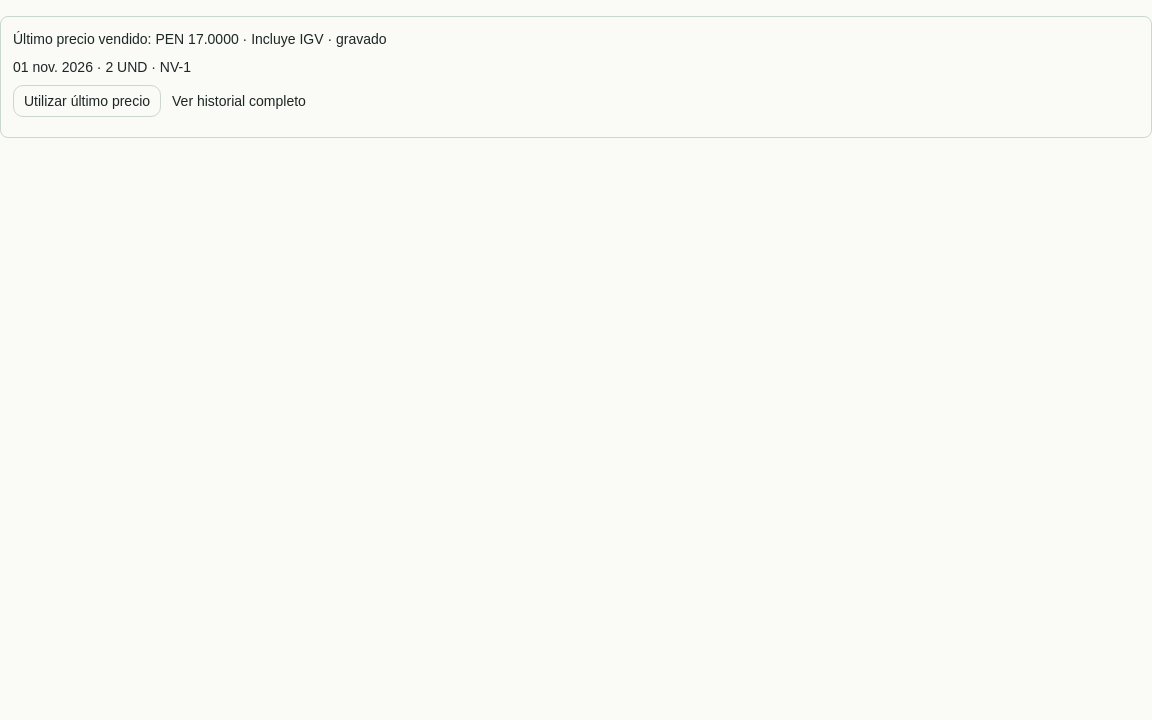
Test: historial de precios de venta › solo entrega el precio tras una acción explícita; abrir el historial no cambia precios
The image size is (1152, 720).
Later steps or results of the test are not shown.
Expected: the text "Último precio vendido: PEN 17.0000 · Incluye IGV · gravado" is shown, 13,31 -> 387,47
What coordinates should you click on to do the following:
click the button "Ver historial completo"
I would click on:
 (239, 101)
Its box is 161,85 -> 317,117.
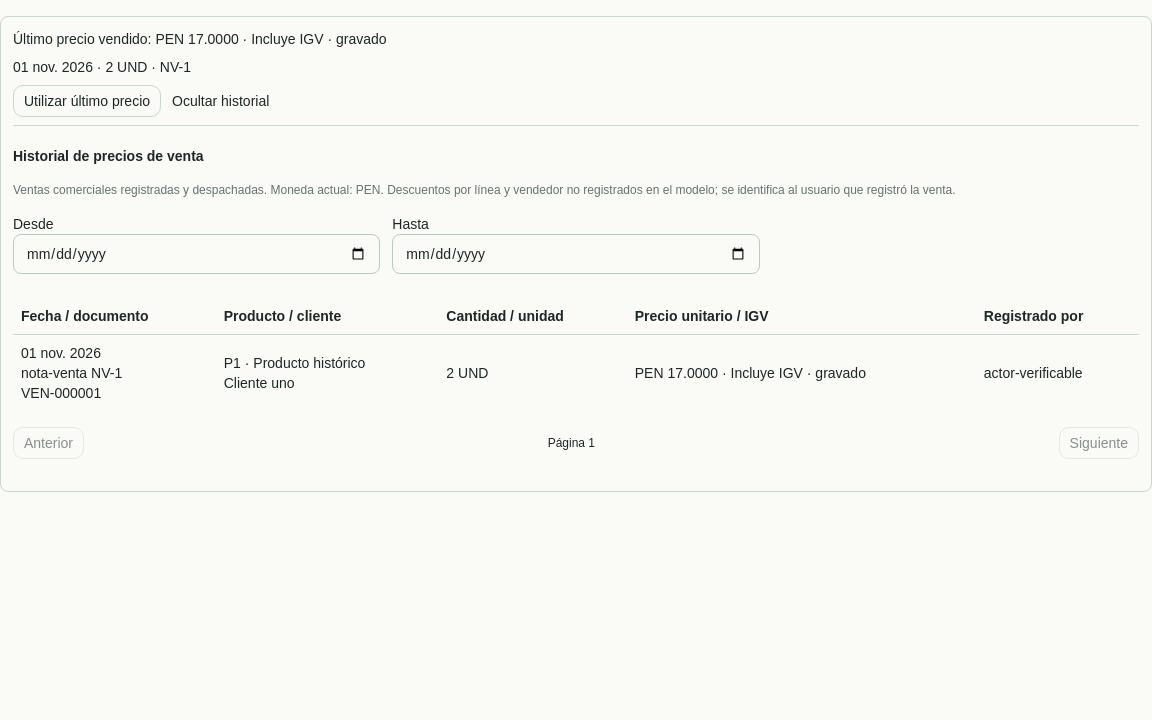
Expected: the heading "Historial de precios de venta" is shown, 13,148 -> 204,164
